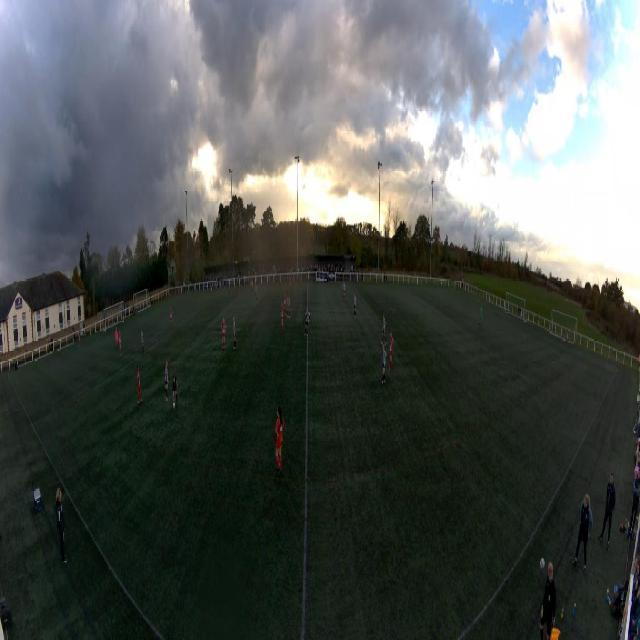ball: (173, 403, 175, 409)
player: (275, 407, 284, 467), (381, 342, 387, 386), (137, 365, 143, 403), (172, 373, 178, 409), (221, 317, 227, 351), (164, 362, 169, 400), (389, 331, 394, 369), (305, 308, 311, 336), (382, 314, 387, 345), (280, 305, 284, 335), (233, 317, 236, 351), (287, 294, 291, 319), (283, 293, 287, 317), (342, 282, 347, 301), (119, 329, 122, 358), (169, 307, 173, 328), (354, 292, 357, 318), (141, 328, 144, 354), (479, 306, 483, 325), (115, 328, 118, 349), (289, 275, 293, 290), (250, 276, 253, 293), (256, 286, 258, 303)
